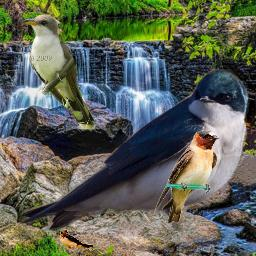Cuckoo: (22, 13, 95, 129)
Swallow: (18, 69, 250, 231), (154, 130, 220, 224), (59, 229, 98, 253)
